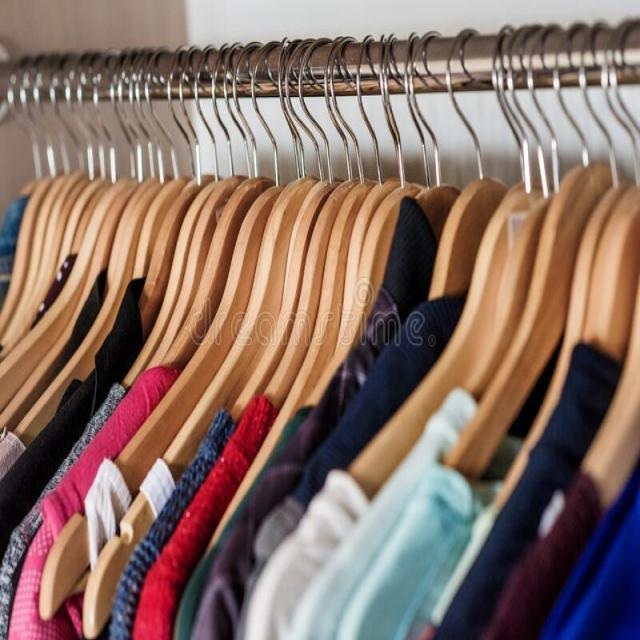clothes: (40, 390, 622, 620)
